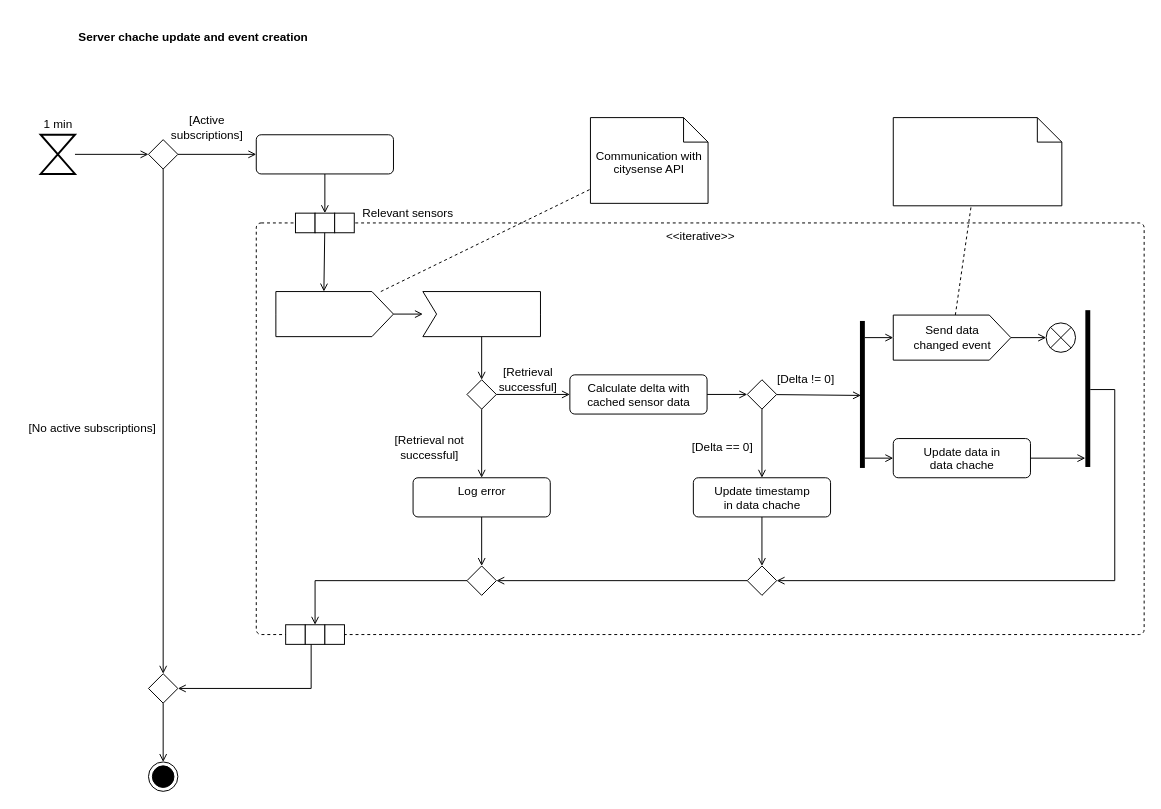
This 1161x809 diagram has some shape labels left out. Each missing label, with the centre of its shape:
Based on subscription send event to all relevant devices (firebase): [977,161]
Create list of all relevant sensors: [324,154]
Receive current sensor data: [481,314]
Request current sensor data: [334,314]
